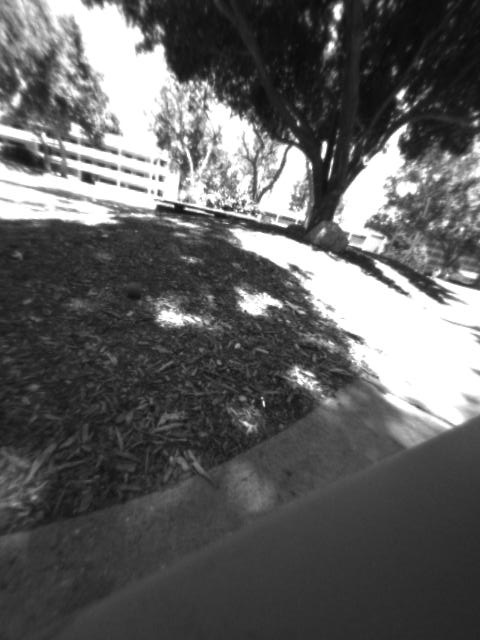dogtoy: (121, 272, 150, 306)
